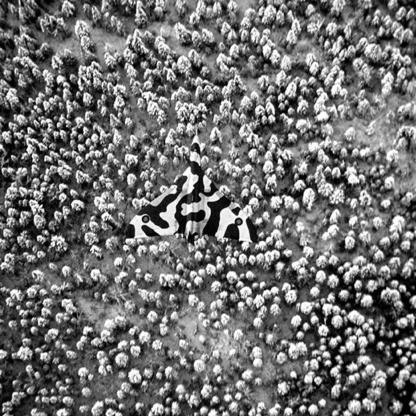Vulcan: (126, 129, 260, 247)
